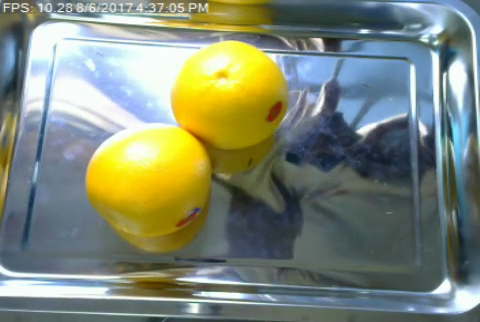Orange: (85, 122, 211, 236), (171, 39, 288, 148)
